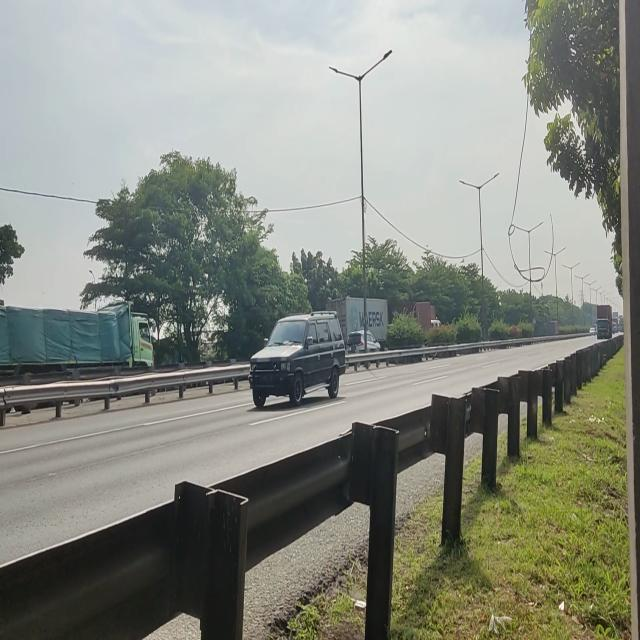Golongan I: (241, 306, 349, 414)
